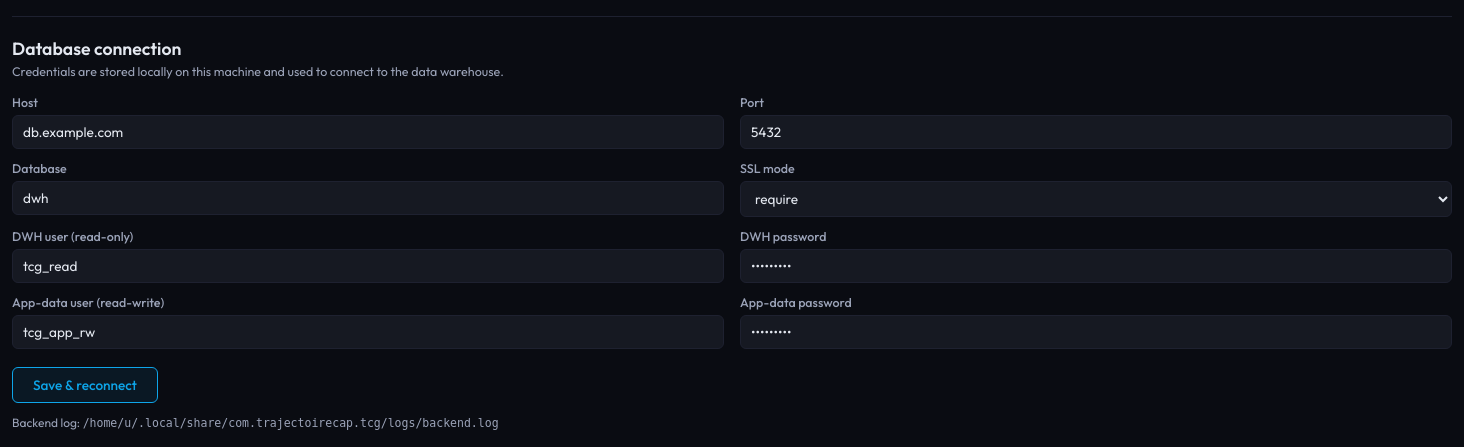
Test: <DatabaseSettings> › surfaces the Err(string) returned by save_db_credentials
The width and height of the screenshot is (1464, 447).
expect the field showing "db.example.com" is shown: met, box top-left (12, 115), bottom-right (724, 149)
Click the button with test id "db-save-btn": x=85, y=385 top-left (12, 367), bottom-right (158, 403)
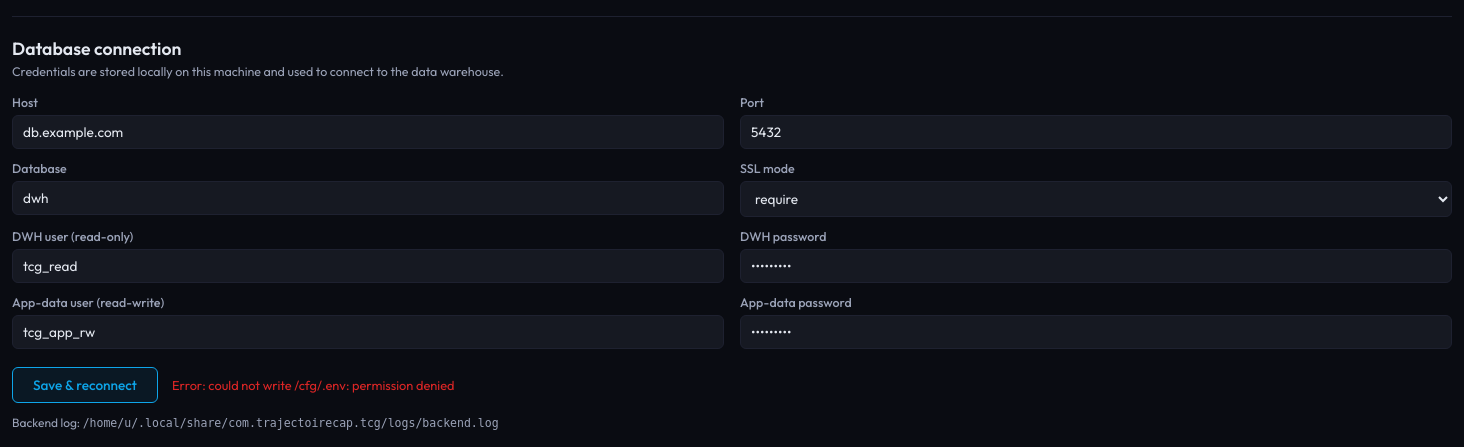
expect the message with test id "db-status" shows "permission denied": met, box top-left (172, 377), bottom-right (454, 393)
